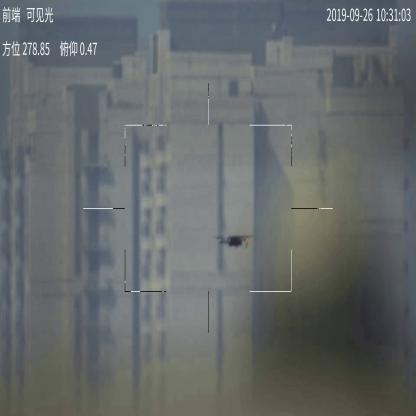uav: (212, 234, 250, 249)
